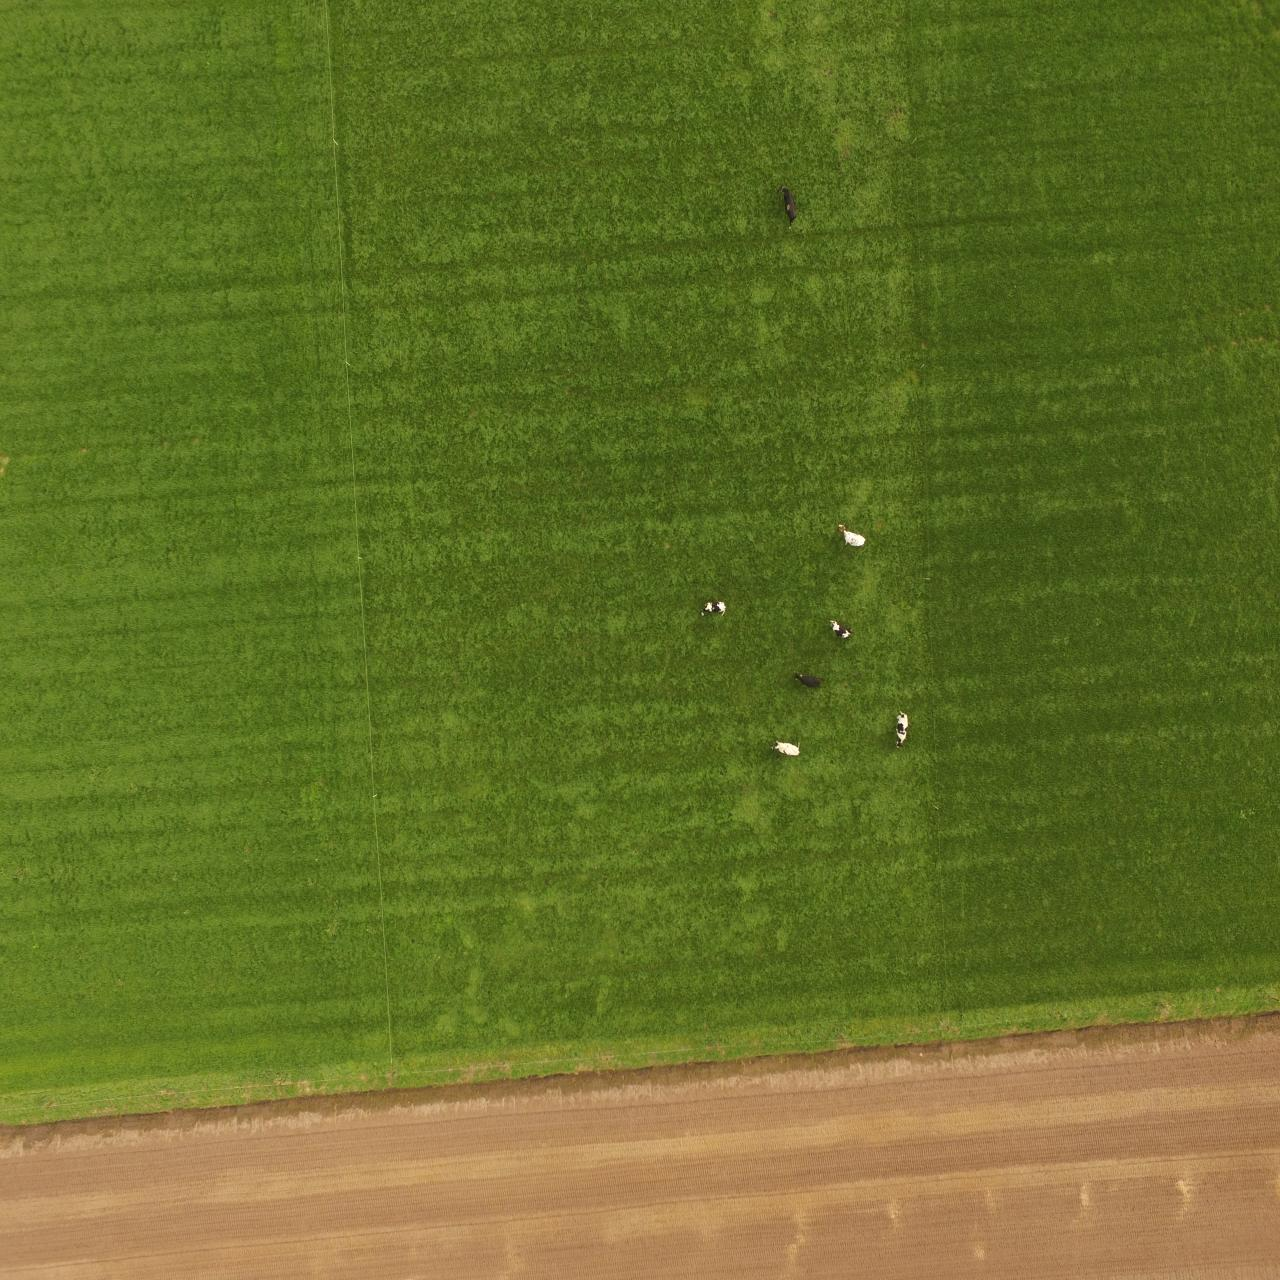cow: (833, 524, 870, 549), (779, 184, 799, 229), (769, 736, 803, 760), (896, 709, 908, 756), (697, 600, 728, 619), (829, 619, 853, 641), (794, 673, 823, 688)
